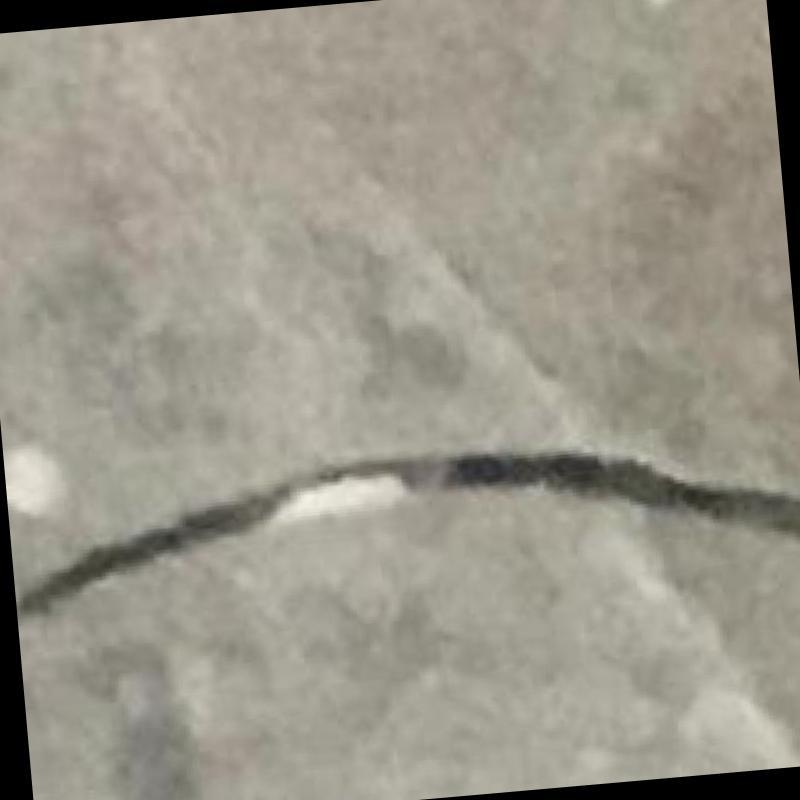pothole: (16, 451, 800, 618)
